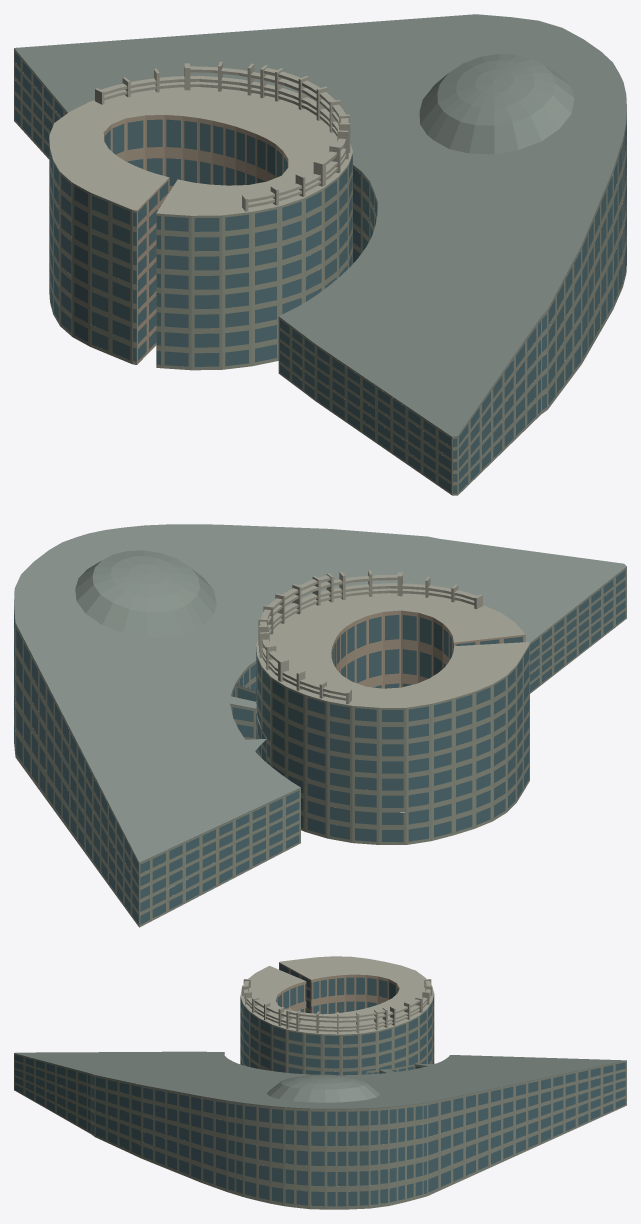
The model's file is parlement-europeen-louise-weiss-far.glb.
3 views of the same model, one above another, from view 1: azimuth 30°, elevation 25°; view 2: azimuth 150°, elevation 25°; view 3: azimuth 270°, elevation 25° (orthographic). The views are drawn at different scales.
Visible parts, largest first — view 1: parlement-europeen-louise-weiss-0-roof, parlement-europeen-louise-weiss-0-glass, parlement-europeen-louise-weiss-0-frame, parlement-europeen-louise-weiss-0-concrete (×2), parlement-europeen-louise-weiss-0-sandstone; view 2: parlement-europeen-louise-weiss-0-roof, parlement-europeen-louise-weiss-0-glass, parlement-europeen-louise-weiss-0-frame, parlement-europeen-louise-weiss-0-concrete (×2), parlement-europeen-louise-weiss-0-sandstone; view 3: parlement-europeen-louise-weiss-0-glass, parlement-europeen-louise-weiss-0-frame, parlement-europeen-louise-weiss-0-roof, parlement-europeen-louise-weiss-0-concrete (×2), parlement-europeen-louise-weiss-0-sandstone.
Part boxes in pixels (x1,y1,x2,y2): parlement-europeen-louise-weiss-0-roof: (14,14,626,437); parlement-europeen-louise-weiss-0-glass: (14,52,626,493); parlement-europeen-louise-weiss-0-frame: (14,49,626,495); parlement-europeen-louise-weiss-0-concrete (×2): (49,61,352,215); parlement-europeen-louise-weiss-0-sandstone: (103,115,288,364); parlement-europeen-louise-weiss-0-roof: (14,524,626,863); parlement-europeen-louise-weiss-0-glass: (14,570,625,924); parlement-europeen-louise-weiss-0-frame: (14,567,626,927); parlement-europeen-louise-weiss-0-concrete (×2): (256,570,529,707); parlement-europeen-louise-weiss-0-sandstone: (331,610,525,688); parlement-europeen-louise-weiss-0-glass: (15,964,625,1206); parlement-europeen-louise-weiss-0-frame: (14,993,626,1209); parlement-europeen-louise-weiss-0-roof: (14,1051,626,1109); parlement-europeen-louise-weiss-0-concrete (×2): (240,956,433,1034); parlement-europeen-louise-weiss-0-sandstone: (276,962,399,1013).
Size of the model in its own units: 176 by 59.84 by 290.
